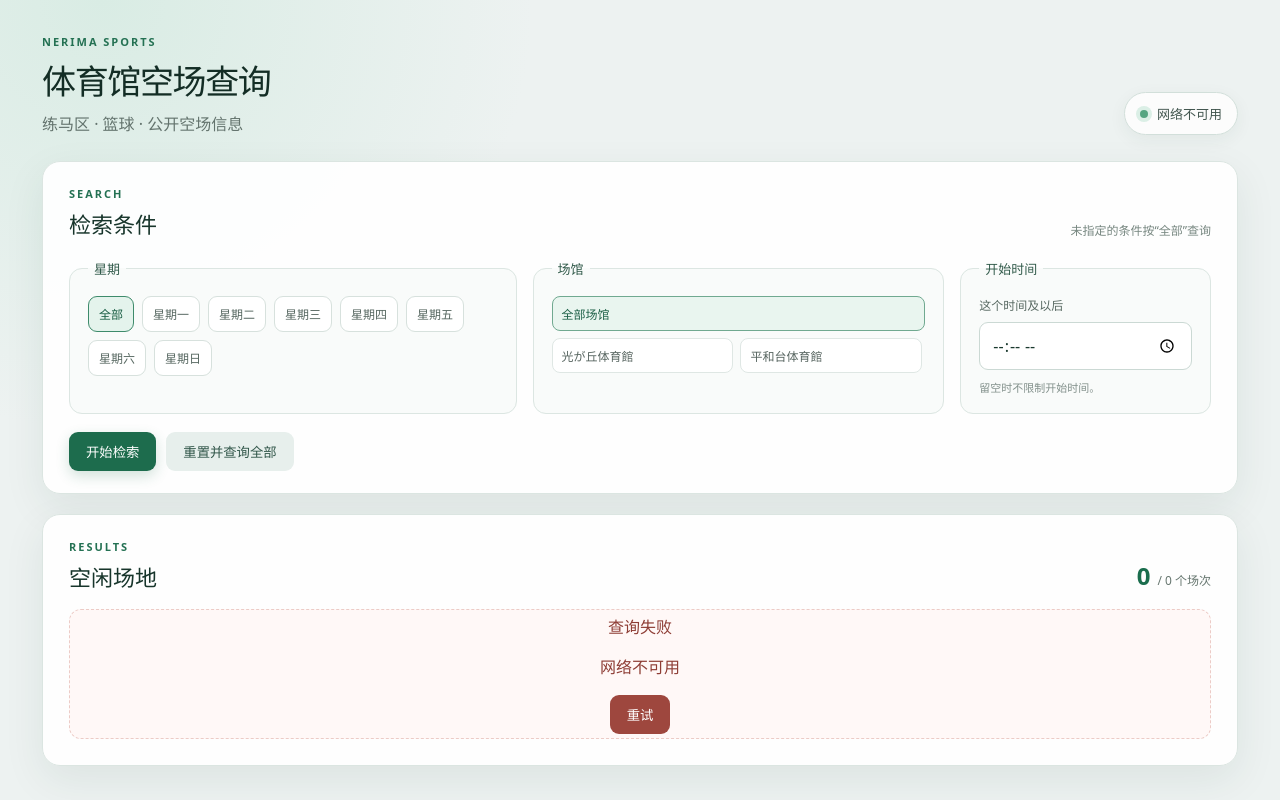
Test: App › shows fatal errors and can retry
Expected: the message shows "网络不可用", [600,656,680,678]
What coordinates should you click on to do the following:
click the button "重试"
I would click on:
 (640, 714)
Its box is [610,695,670,734].
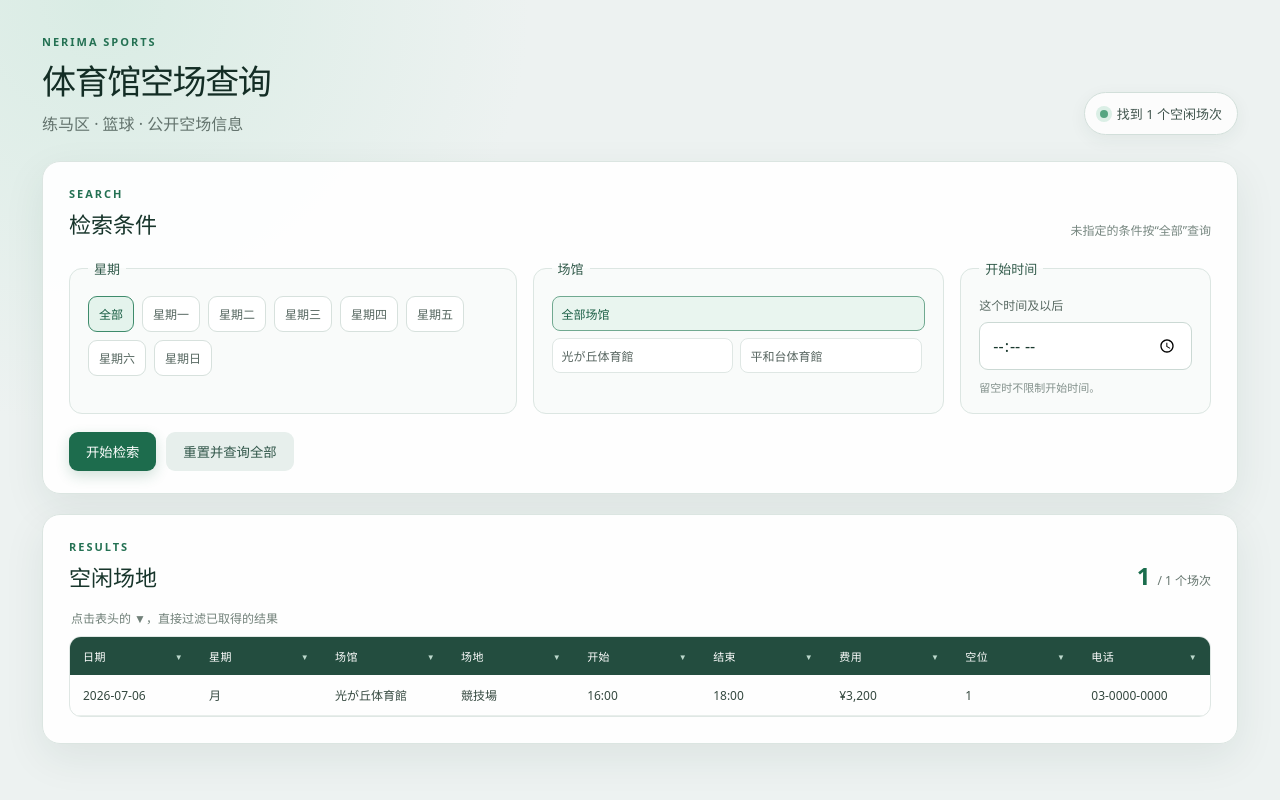
Expected: the text "光が丘体育館" is shown, [322,675,448,716]
